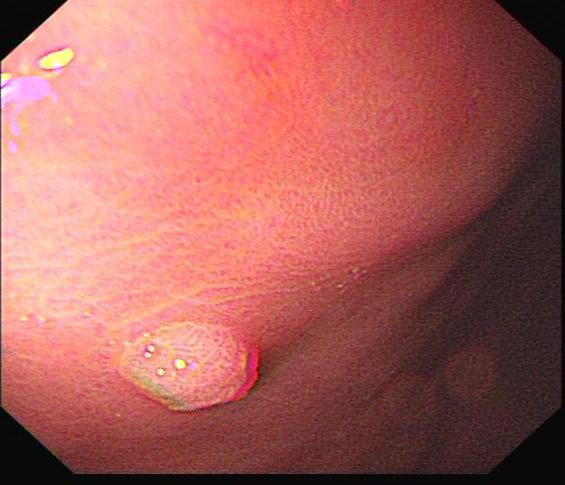Polyp: (108, 319, 261, 418)
